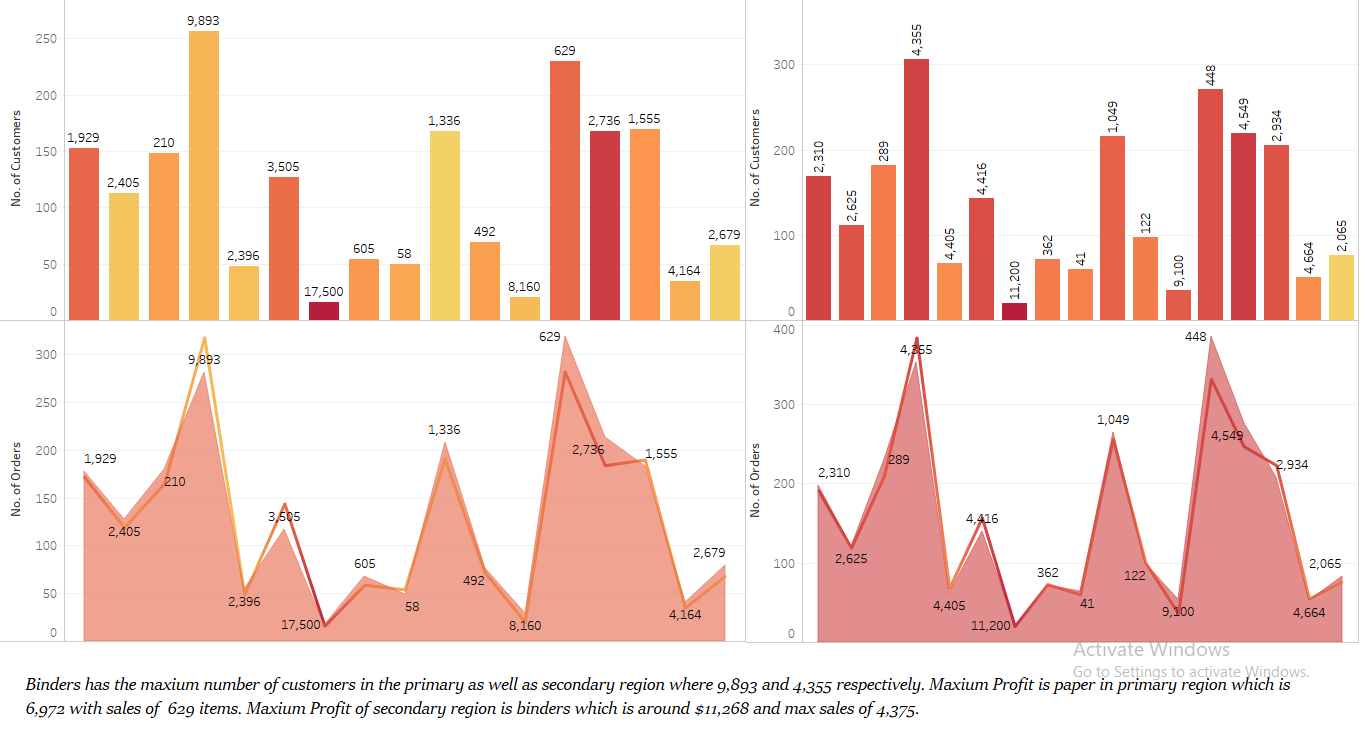

What the dashboard file says about the page in this screenshot:
{"tool":"tableau","page":{"name":"remaining items with sub-category","canvas":[1000,1000],"units":"permille","ordinal":4},"visuals":[{"type":"worksheet","title":"all with sub -category(Secondary) ","mark":"Automatic","rows":["Calculation_787004045803143173","Calculation_787004045803278342","Calculation_787004045803376647"],"cols":["Sub-Category"],"box":[546.3,3.4,448.5,873.3]},{"type":"worksheet","title":"all with sub -category(Primary)","mark":"Automatic","rows":["Calculation_787004045803143173","Calculation_787004045803278342","Calculation_787004045803376647"],"cols":["Sub-Category"],"box":[0,5.1,546.3,871.6]}]}

Visuals, with their boxes on the dashboard's canvas, which has no fixed pixel size, in thousandths of its width and height (x1, y1, x2, y2). These are canvas units, not pixel positions in the 1365x730 screenshot, which may show the page scaled, cropped or inside an application window:
"all with sub -category(Secondary) " worksheet: x1=546, y1=3, x2=995, y2=877
"all with sub -category(Primary)" worksheet: x1=0, y1=5, x2=546, y2=877
